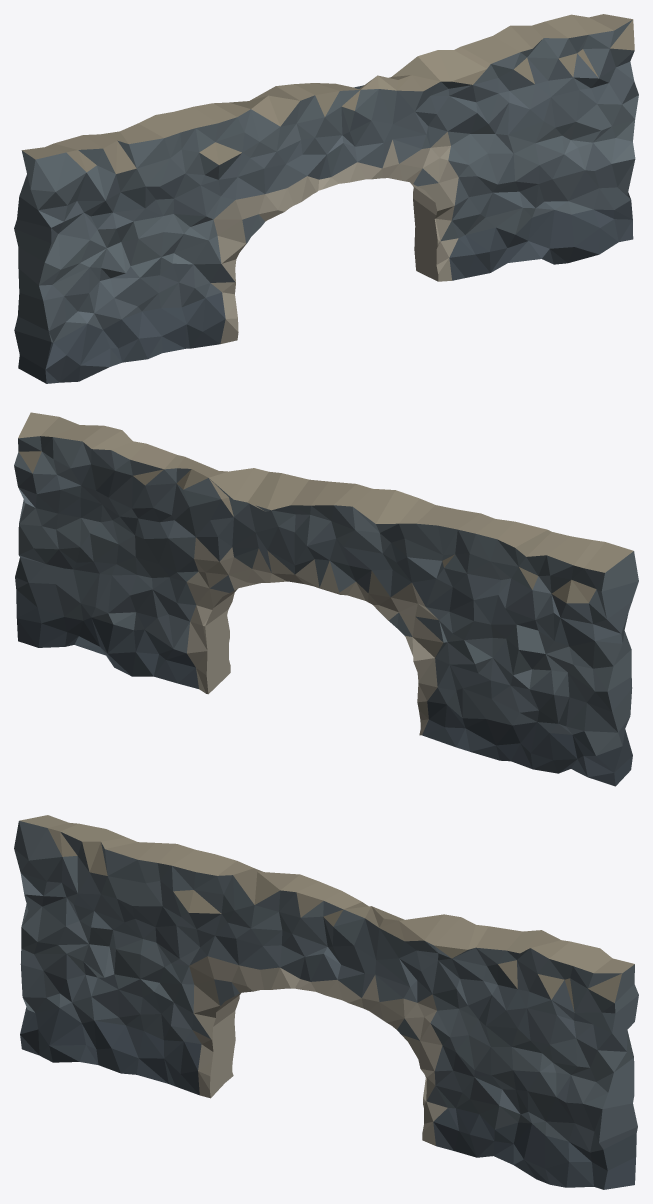
The model's file is Cave_Mouth.glb.
3 renders of one model, top to bottom at view 1: azimuth 30°, elevation 25°; view 2: azimuth 150°, elevation 25°; view 3: azimuth 330°, elevation 25°, orthographic.
Parts seen in each view (by area): view 1: Cave_Mouth; view 2: Cave_Mouth; view 3: Cave_Mouth.
Boxes of the visible parts, x1,y1,x2,y2 form: Cave_Mouth: (14,14,638,383); Cave_Mouth: (14,412,638,786); Cave_Mouth: (14,815,638,1189).
Bounding box in the file's own units: 47.49 × 17.6 × 4.66.
